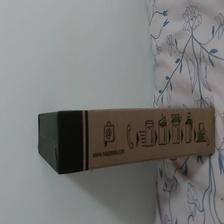box: (38, 106, 217, 174)
